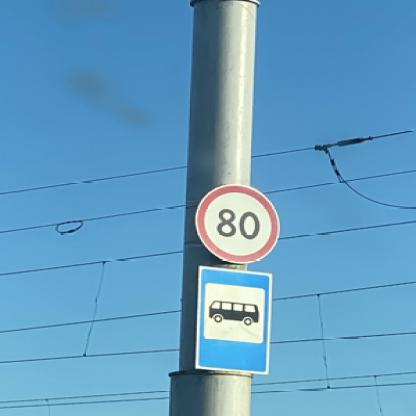speedlimit: (194, 184, 277, 262)
